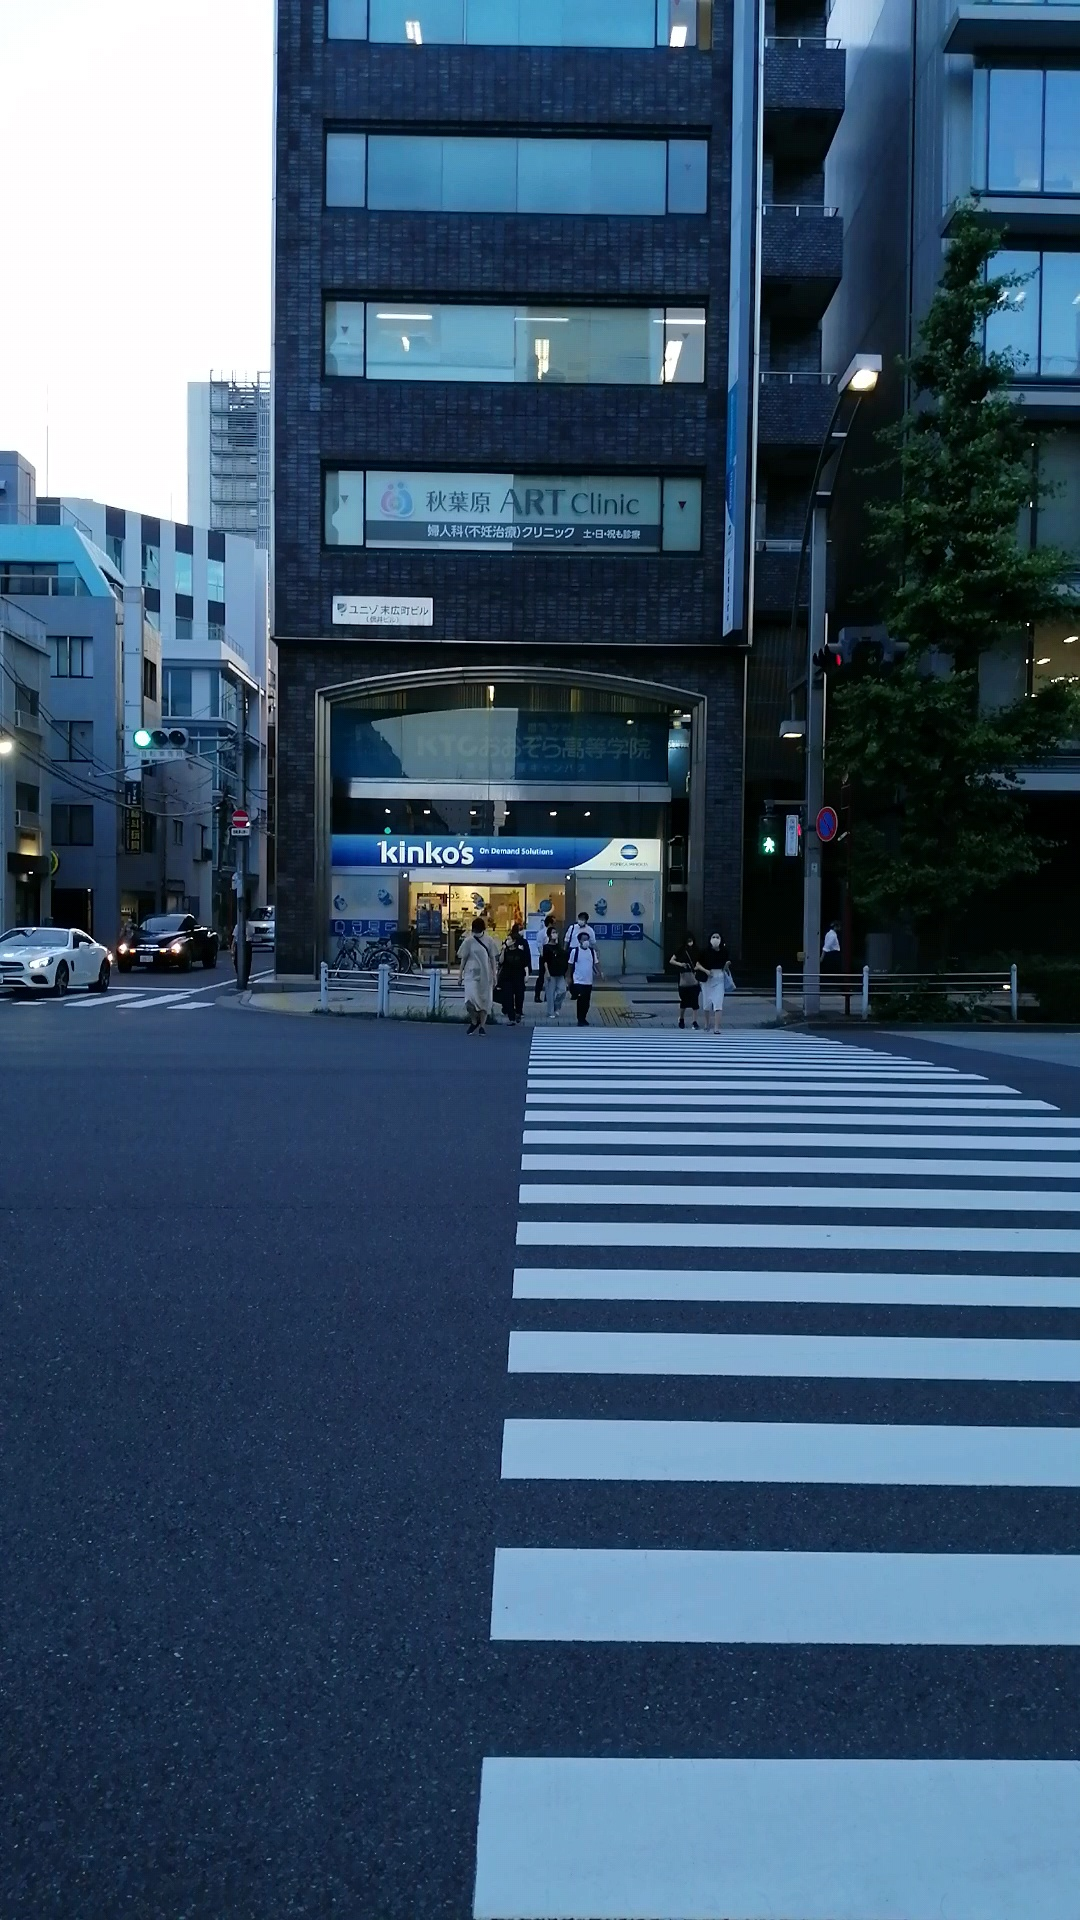green: (757, 812, 781, 862)
